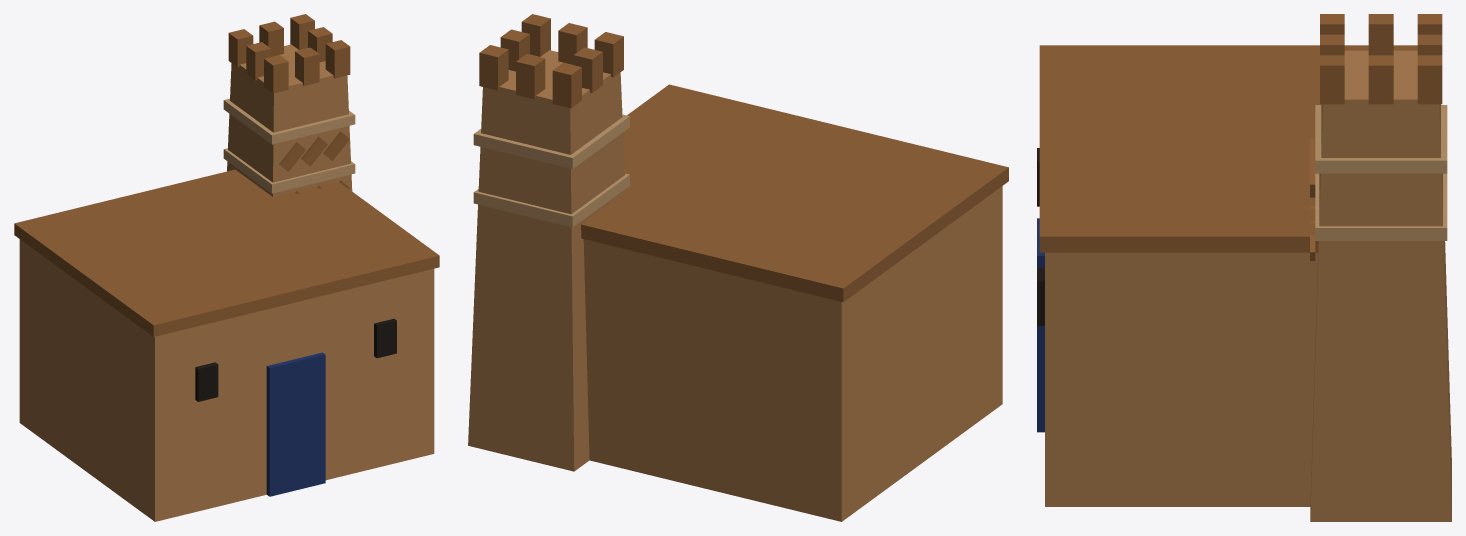
The model's file is fennec_house_a_broken.glb.
3 renders of one model, left to right at view 1: azimuth 30°, elevation 25°; view 2: azimuth 150°, elevation 25°; view 3: azimuth 270°, elevation 25°, orthographic. The views are drawn at different scales.
Parts seen in each view (by area): view 1: fennec_house_a_piece1, fennec_house_a_piece3, fennec_house_a_piece5, fennec_house_a_piece4, fennec_house_a_piece6, fennec_house_a_piece8, fennec_house_a_piece10, fennec_house_a_piece7, fennec_house_a_piece2, fennec_house_a_piece0, fennec_house_a_piece13; view 2: fennec_house_a_piece1, fennec_house_a_piece4, fennec_house_a_piece9, fennec_house_a_piece10, fennec_house_a_piece3, fennec_house_a_piece7, fennec_house_a_piece6, fennec_house_a_piece11, fennec_house_a_piece2, fennec_house_a_piece5, fennec_house_a_piece0, fennec_house_a_piece13; view 3: fennec_house_a_piece8, fennec_house_a_piece6, fennec_house_a_piece9, fennec_house_a_piece4, fennec_house_a_piece1, fennec_house_a_piece3, fennec_house_a_piece11, fennec_house_a_piece10, fennec_house_a_piece12, fennec_house_a_piece5.
Part boxes in pixels (bbox=[...]): fennec_house_a_piece1: bbox=[14, 201, 267, 450]; fennec_house_a_piece3: bbox=[133, 220, 423, 461]; fennec_house_a_piece5: bbox=[118, 340, 397, 521]; fennec_house_a_piece4: bbox=[144, 14, 355, 208]; fennec_house_a_piece6: bbox=[284, 140, 439, 337]; fennec_house_a_piece8: bbox=[377, 321, 434, 467]; fennec_house_a_piece10: bbox=[104, 192, 290, 244]; fennec_house_a_piece7: bbox=[58, 428, 131, 504]; fennec_house_a_piece2: bbox=[92, 400, 134, 444]; fennec_house_a_piece0: bbox=[128, 403, 168, 468]; fennec_house_a_piece13: bbox=[117, 418, 145, 462]; fennec_house_a_piece1: bbox=[687, 145, 1008, 521]; fennec_house_a_piece4: bbox=[473, 14, 689, 393]; fennec_house_a_piece9: bbox=[468, 294, 673, 471]; fennec_house_a_piece10: bbox=[644, 165, 744, 422]; fennec_house_a_piece3: bbox=[675, 89, 1002, 328]; fennec_house_a_piece7: bbox=[631, 377, 974, 502]; fennec_house_a_piece6: bbox=[623, 84, 687, 178]; fennec_house_a_piece11: bbox=[474, 237, 534, 322]; fennec_house_a_piece2: bbox=[528, 297, 977, 401]; fennec_house_a_piece5: bbox=[959, 341, 1002, 423]; fennec_house_a_piece0: bbox=[971, 299, 1002, 350]; fennec_house_a_piece13: bbox=[958, 328, 990, 376]; fennec_house_a_piece8: bbox=[1045, 324, 1346, 506]; fennec_house_a_piece6: bbox=[1039, 182, 1407, 340]; fennec_house_a_piece9: bbox=[1243, 326, 1451, 521]; fennec_house_a_piece4: bbox=[1273, 14, 1447, 313]; fennec_house_a_piece1: bbox=[1039, 45, 1417, 157]; fennec_house_a_piece3: bbox=[1037, 96, 1245, 313]; fennec_house_a_piece11: bbox=[1368, 253, 1447, 345]; fennec_house_a_piece10: bbox=[1187, 129, 1315, 193]; fennec_house_a_piece12: bbox=[1304, 294, 1399, 343]; fennec_house_a_piece5: bbox=[1037, 313, 1044, 432].
Bounding box in the file's own units: 2.73 × 2.82 × 2.35.
